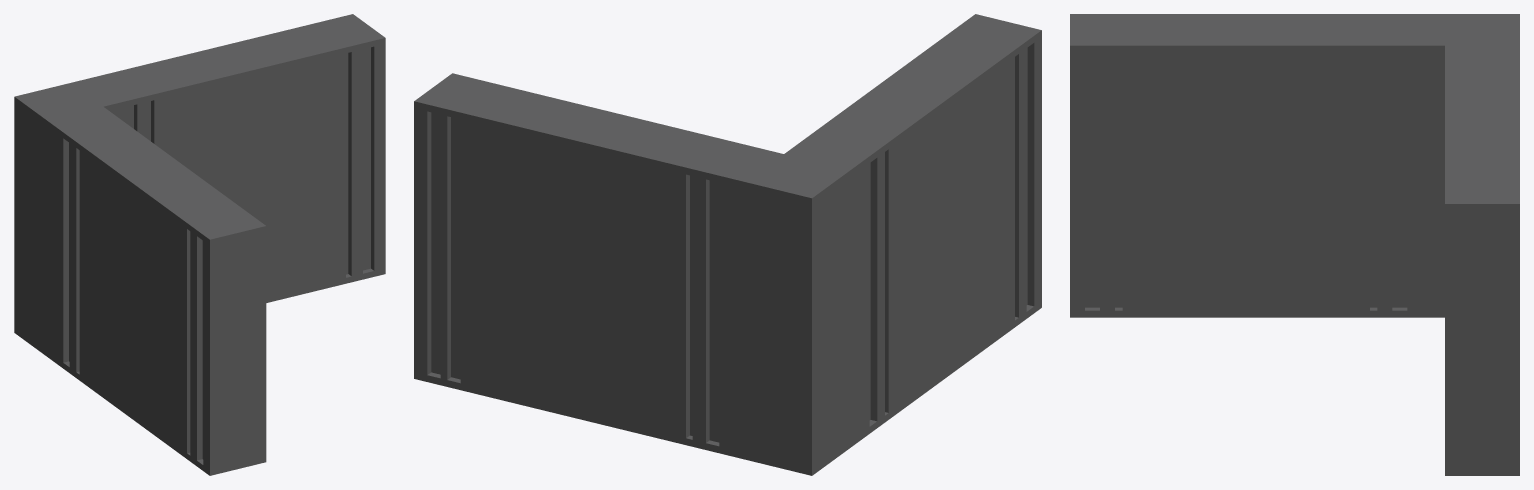
Rendered from Green House Corner.obj.
3 views of the same model, side by side, from view 1: azimuth 30°, elevation 25°; view 2: azimuth 150°, elevation 25°; view 3: azimuth 270°, elevation 25° (orthographic). The views are drawn at different scales.
Size of the model in its own units: 60 by 40 by 60.
Materials: 1 (1 with a texture image).
